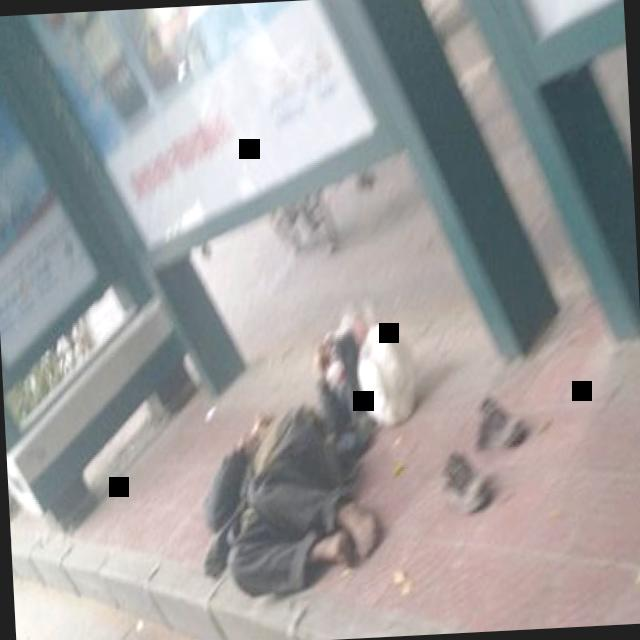Fall-Detected: (194, 390, 400, 604)
